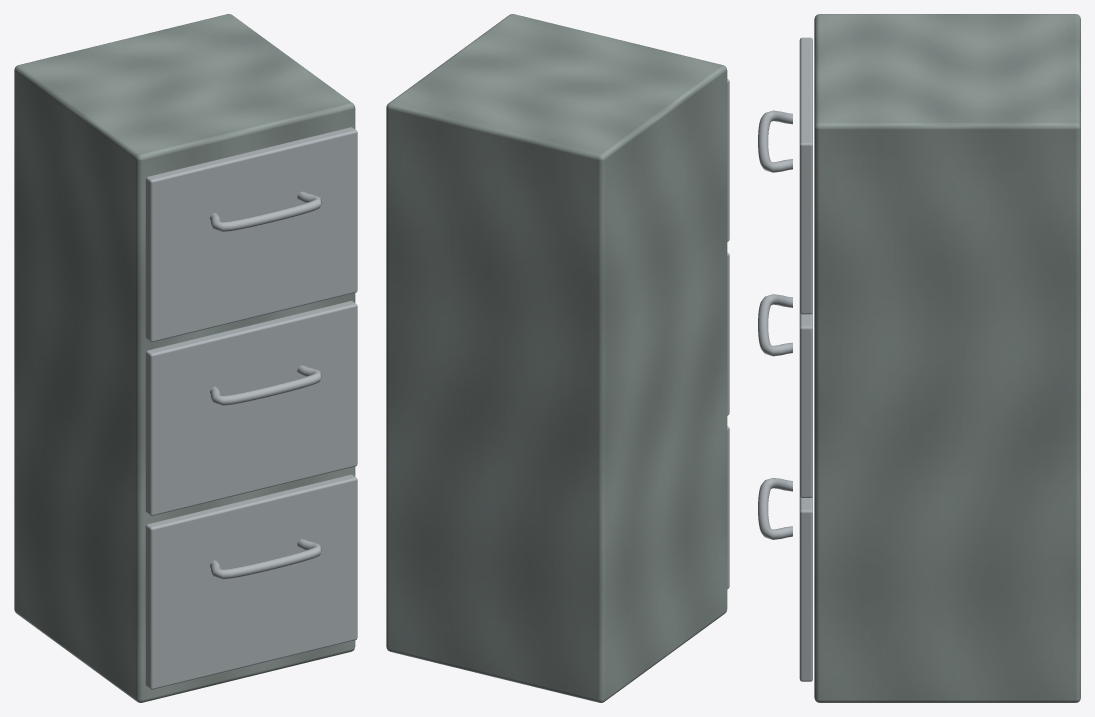
Rendered from liminal-spaces-kit-filing-cabinet-c216e472__25248.glb.
The picture shows the model from 3 angles, left to right: view 1: azimuth 30°, elevation 25°; view 2: azimuth 150°, elevation 25°; view 3: azimuth 270°, elevation 25°; orthographic projection. The views are drawn at different scales.
Parts seen in each view (by area): view 1: filing-cabinet, drawer-1, drawer-3, drawer-2; view 2: filing-cabinet; view 3: filing-cabinet, drawer-3, drawer-1, drawer-2.
Boxes of the visible parts, bbox=[...] form: filing-cabinet: bbox=[14, 14, 355, 702]; drawer-1: bbox=[145, 474, 357, 689]; drawer-3: bbox=[145, 127, 357, 342]; drawer-2: bbox=[145, 301, 357, 515]; filing-cabinet: bbox=[386, 14, 727, 702]; filing-cabinet: bbox=[814, 14, 1080, 702]; drawer-3: bbox=[758, 37, 812, 314]; drawer-1: bbox=[758, 478, 812, 681]; drawer-2: bbox=[758, 294, 812, 497].
Bounding box in the file's own units: 0.5 × 1.2 × 0.6058.
2 materials, 1 textured.
